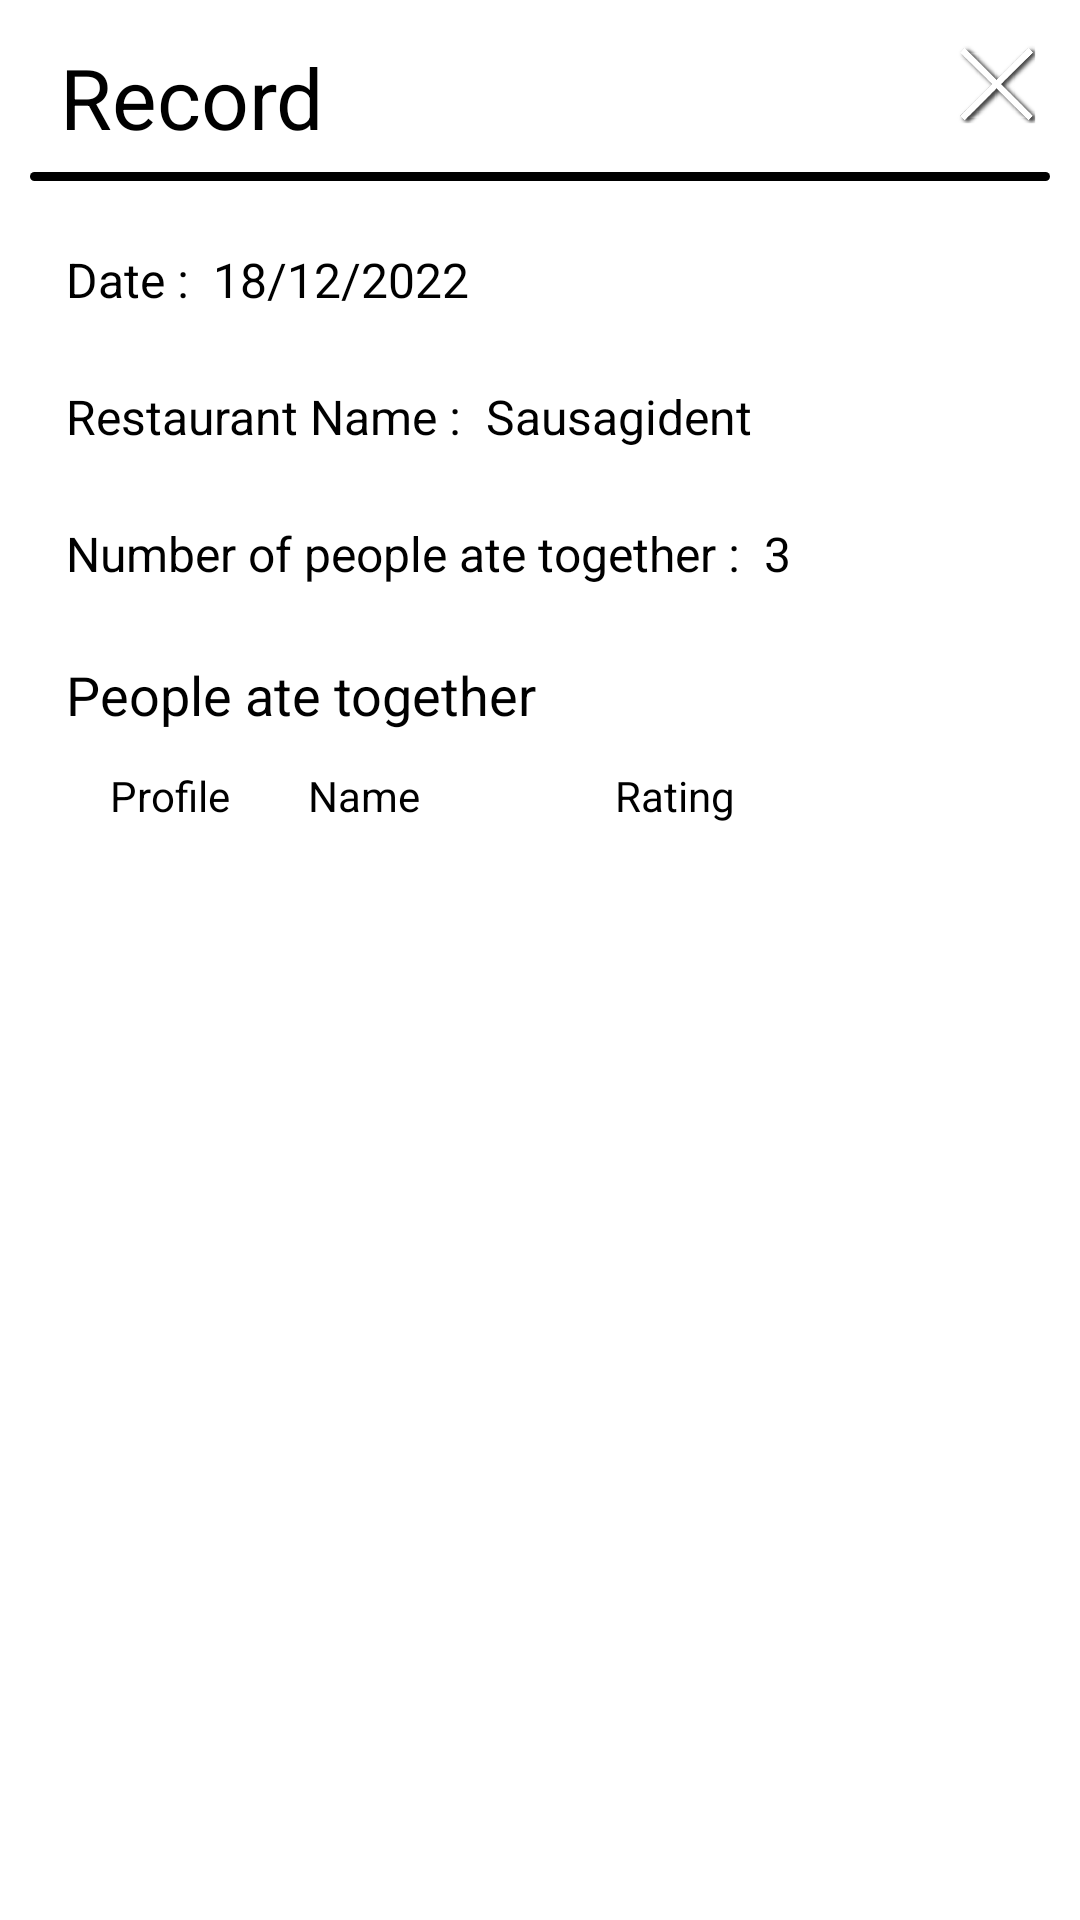

Screen size 1080 × 1920. Icon name, then its box in pixels as bbox(x1, y1, x2, y2):
goback: bbox(960, 48, 1035, 123)
